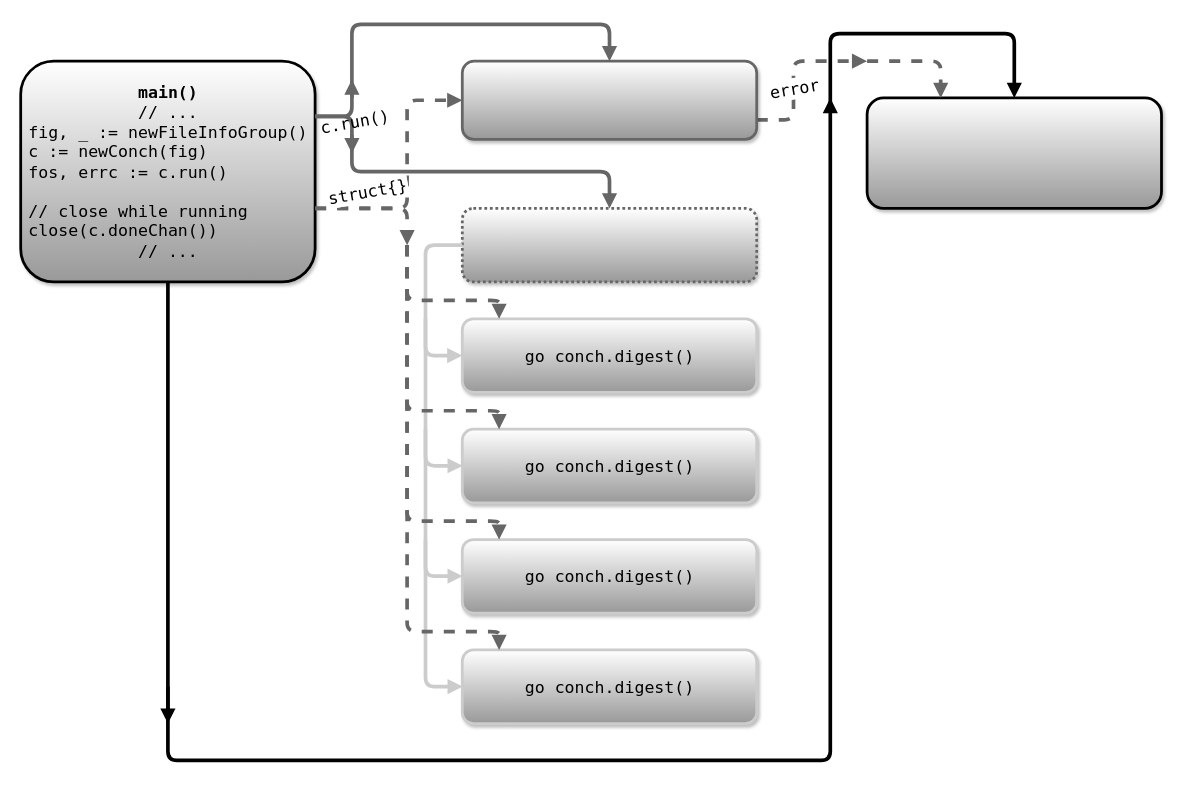
Image size: 1184x785. Some labels were removed from this diagram. The centre of each missing label's shape, as x and y in pixels:
go conch.fanout(): [610,246]
go conch.feedPaths(): [610,101]
main() select { case err := <-errc: default: }: [1015,154]
